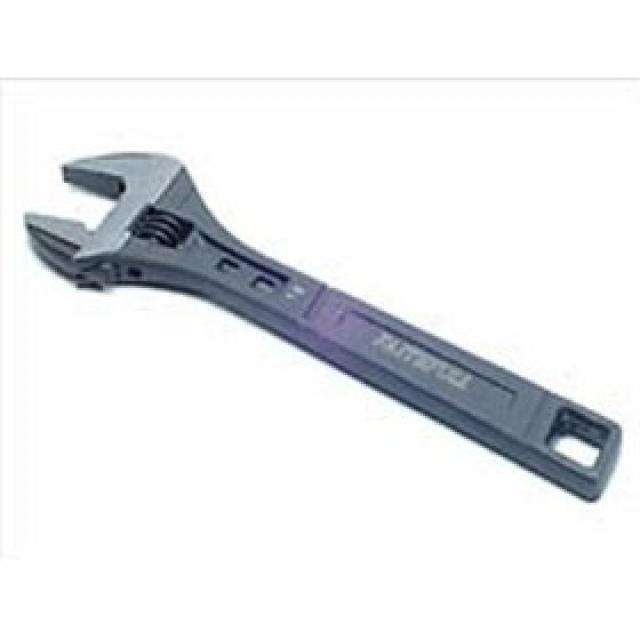wrench: (14, 139, 626, 501)
